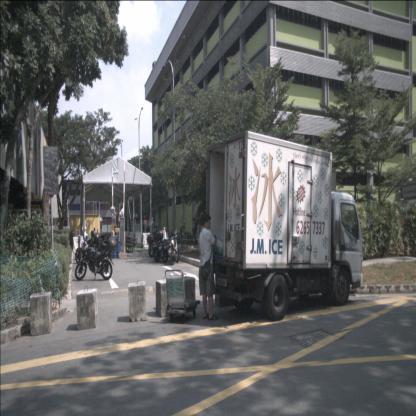human-pedestrian-adult: (198, 213, 217, 322), (179, 220, 187, 246), (193, 217, 198, 245)
vehicle-motorcycle: (74, 236, 116, 280), (75, 232, 101, 264), (156, 231, 176, 264), (147, 233, 168, 262), (79, 230, 99, 254), (148, 229, 163, 257), (168, 234, 180, 266)
vehicle-truck: (205, 130, 363, 322)
